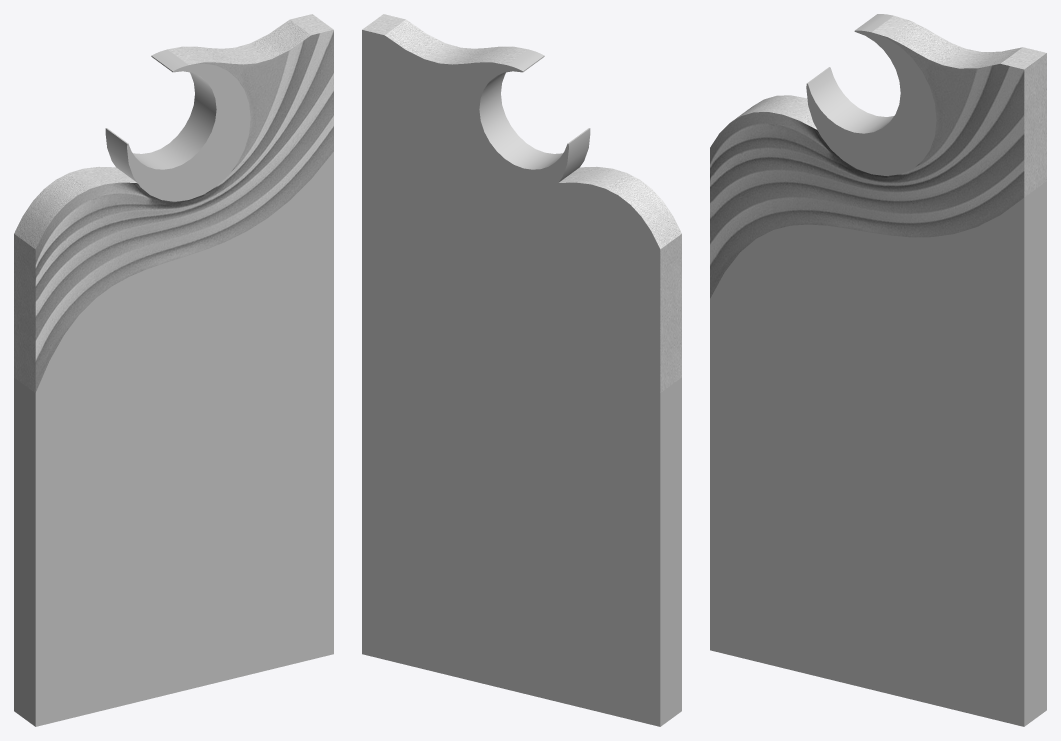
The model's file is cn870cd48044_tkf.glb.
3 renders of one model, left to right at view 1: azimuth 30°, elevation 25°; view 2: azimuth 150°, elevation 25°; view 3: azimuth 330°, elevation 25°, orthographic. The views are drawn at different scales.
Visible parts, largest first — view 1: Pam-d01-296, Pam-d01-296_2_notexture; view 2: Pam-d01-296, Pam-d01-296_2_notexture; view 3: Pam-d01-296, Pam-d01-296_2_notexture.
Boxes of the visible parts, box(x1,y1,x2,y2) form: Pam-d01-296: box(14, 49, 333, 726); Pam-d01-296_2_notexture: box(14, 14, 333, 392); Pam-d01-296: box(362, 30, 681, 726); Pam-d01-296_2_notexture: box(362, 14, 681, 392); Pam-d01-296: box(710, 14, 1046, 726); Pam-d01-296_2_notexture: box(710, 15, 1046, 298).
Bounding box in the file's own units: 0.4 × 0.8 × 0.05.
Materials: 1 (1 with a texture image).
